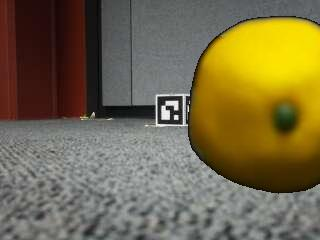lemon: (189, 19, 320, 191)
